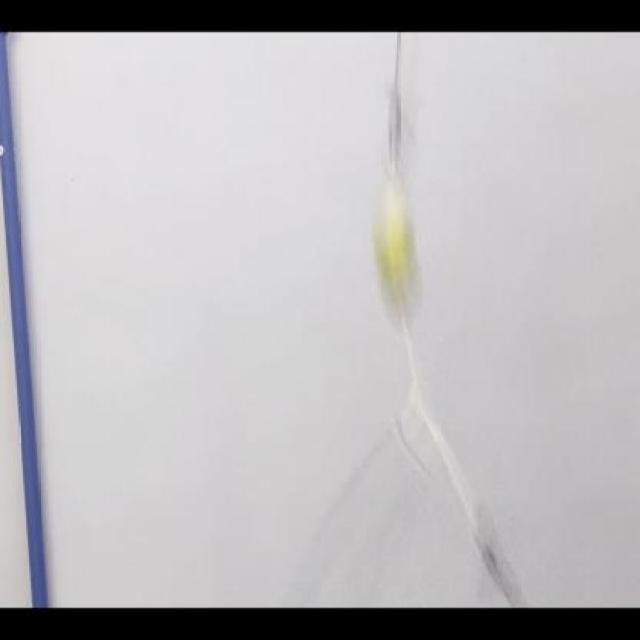baseball: (369, 203, 425, 315)
